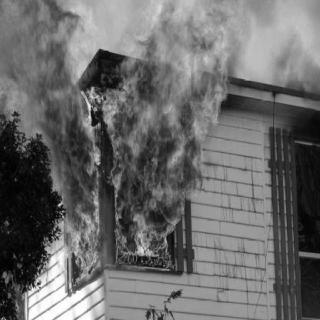Fire: (0, 1, 234, 272)
